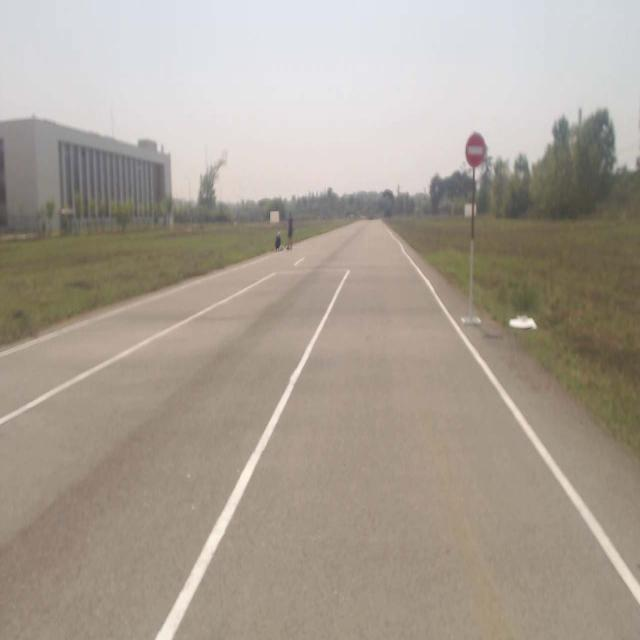girisyok: (466, 134, 486, 166)
